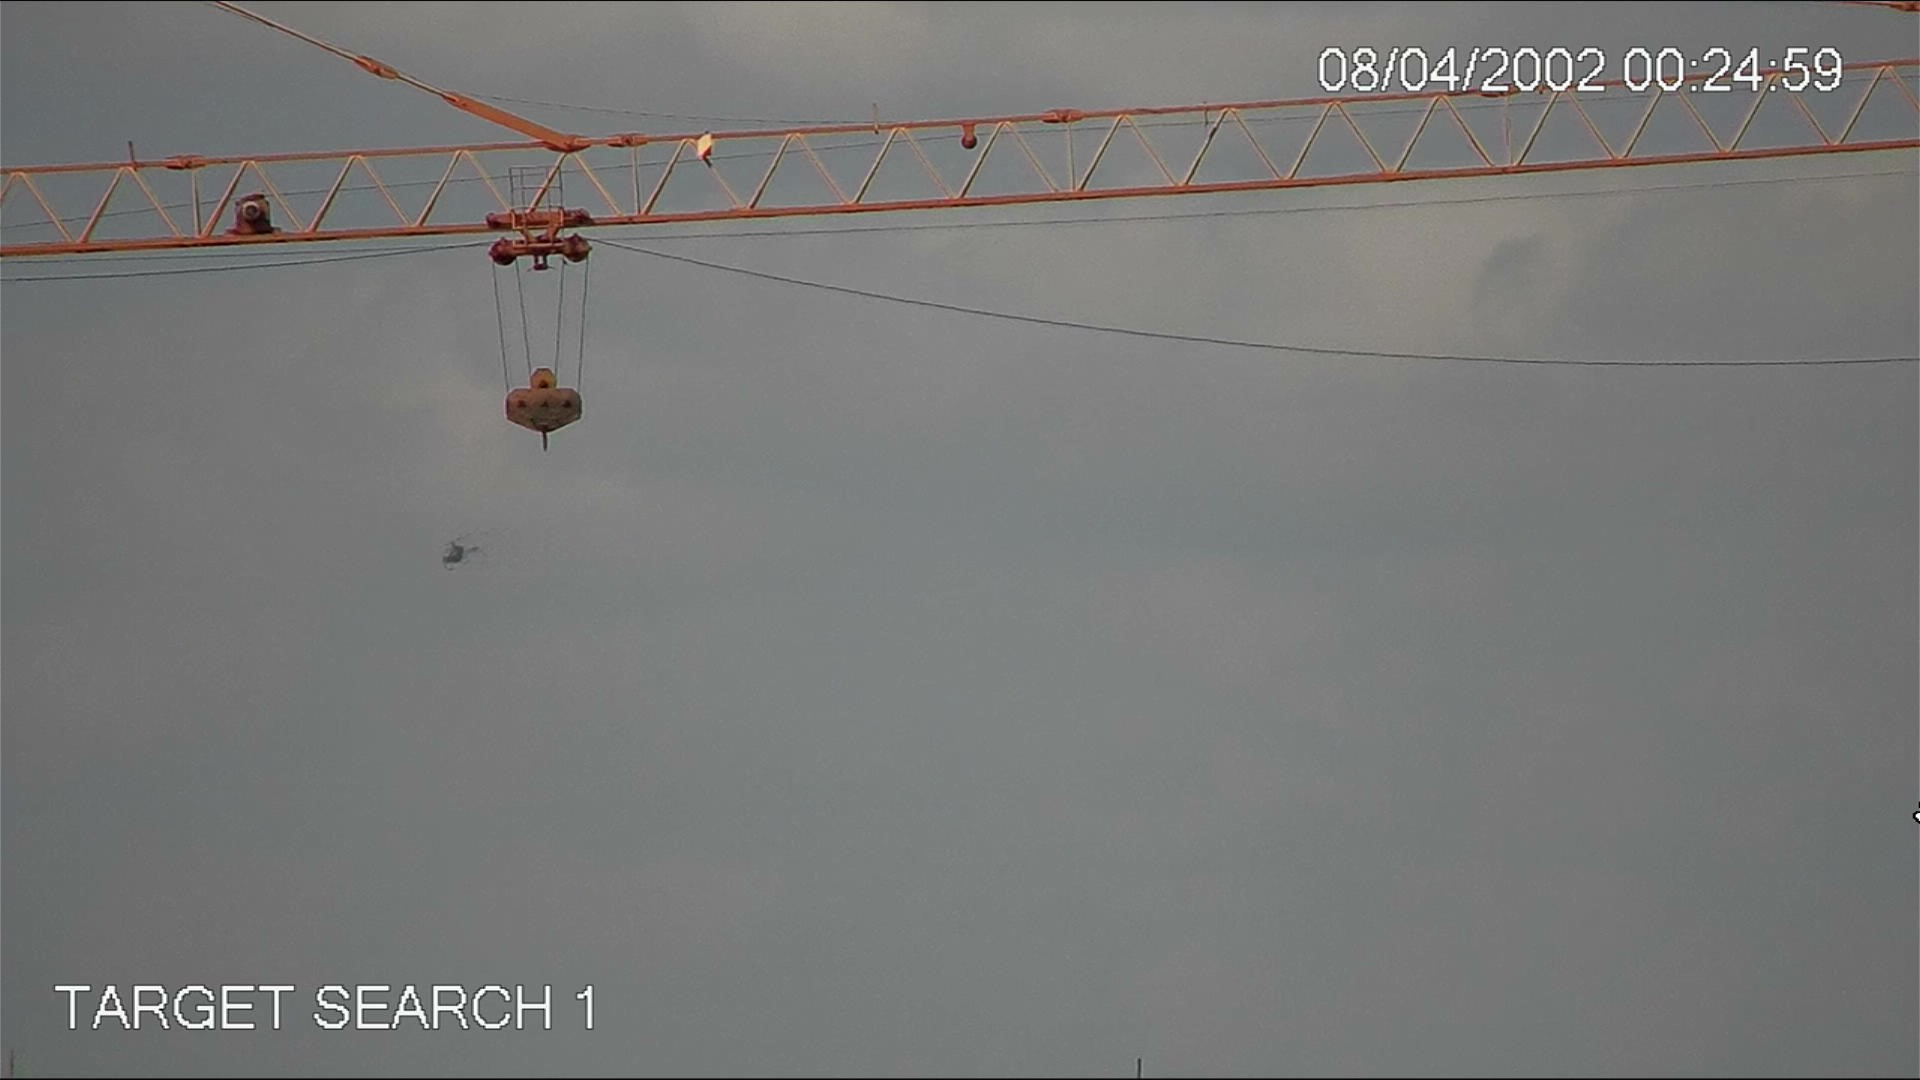SU_30: (429, 524, 491, 579)
